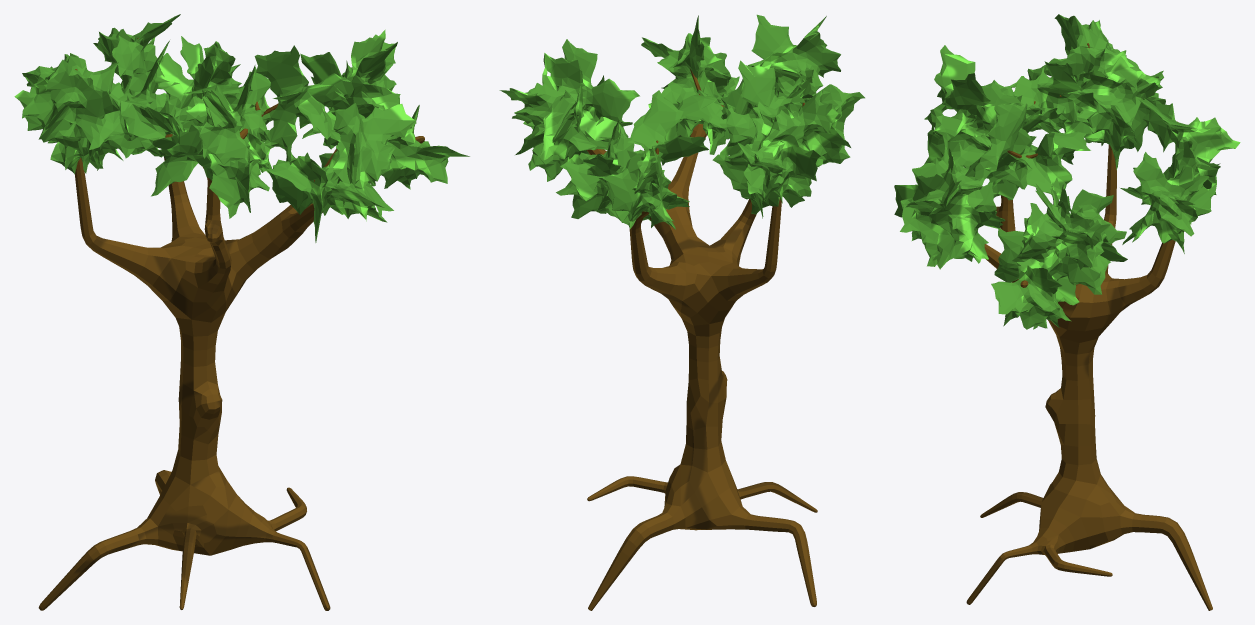
Rendered from arbol4.fbx.
3 renders of one model, left to right at view 1: azimuth 30°, elevation 25°; view 2: azimuth 150°, elevation 25°; view 3: azimuth 270°, elevation 25°, orthographic. The views are drawn at different scales.
Visible parts, largest first — view 1: Vert.003; view 2: Vert.003; view 3: Vert.003.
Boxes of the visible parts, x1,y1,x2,y2 form: Vert.003: [14, 14, 469, 610]; Vert.003: [499, 14, 864, 610]; Vert.003: [894, 14, 1240, 610].
Bounding box in the file's own units: 604 × 716 × 993.
